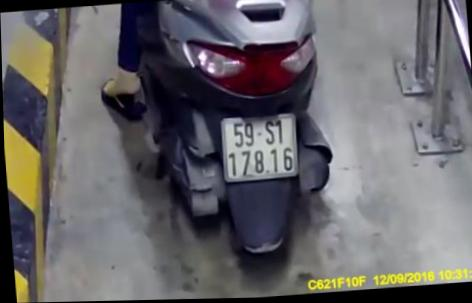LP: (216, 112, 302, 186)
